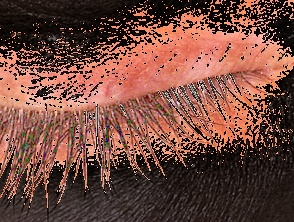vitiligo: (0, 1, 294, 222)
